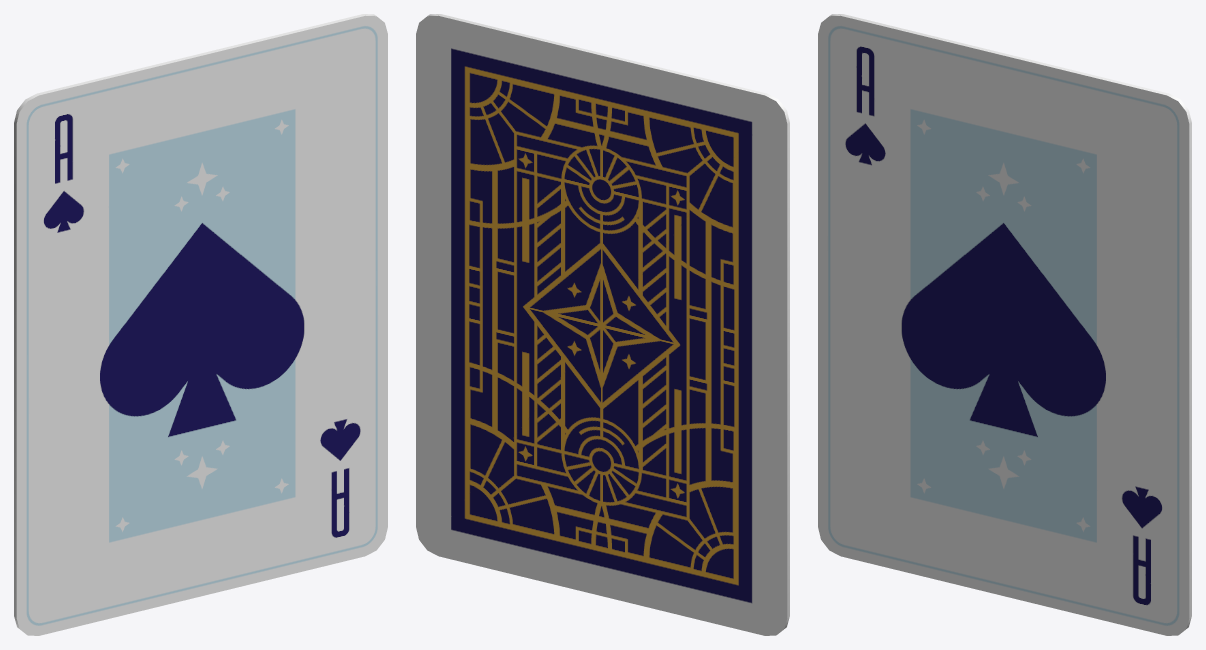
The model's file is card_spades_ace.obj.
3 renders of one model, left to right at view 1: azimuth 30°, elevation 25°; view 2: azimuth 150°, elevation 25°; view 3: azimuth 330°, elevation 25°, orthographic.
Visible parts, largest first — view 1: card_spades_ace; view 2: card_spades_ace; view 3: card_spades_ace.
Boxes of the visible parts, bbox=[...] form: card_spades_ace: bbox=[14, 14, 387, 635]; card_spades_ace: bbox=[416, 14, 789, 635]; card_spades_ace: bbox=[818, 14, 1191, 635].
Bounding box in the file's own units: 4.31 × 6 × 0.05.
2 materials, 2 textured.
